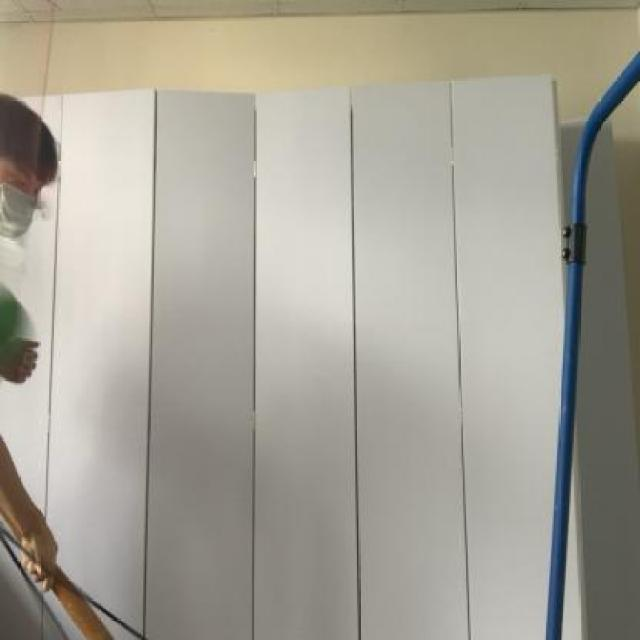baseball: (1, 276, 41, 392)
